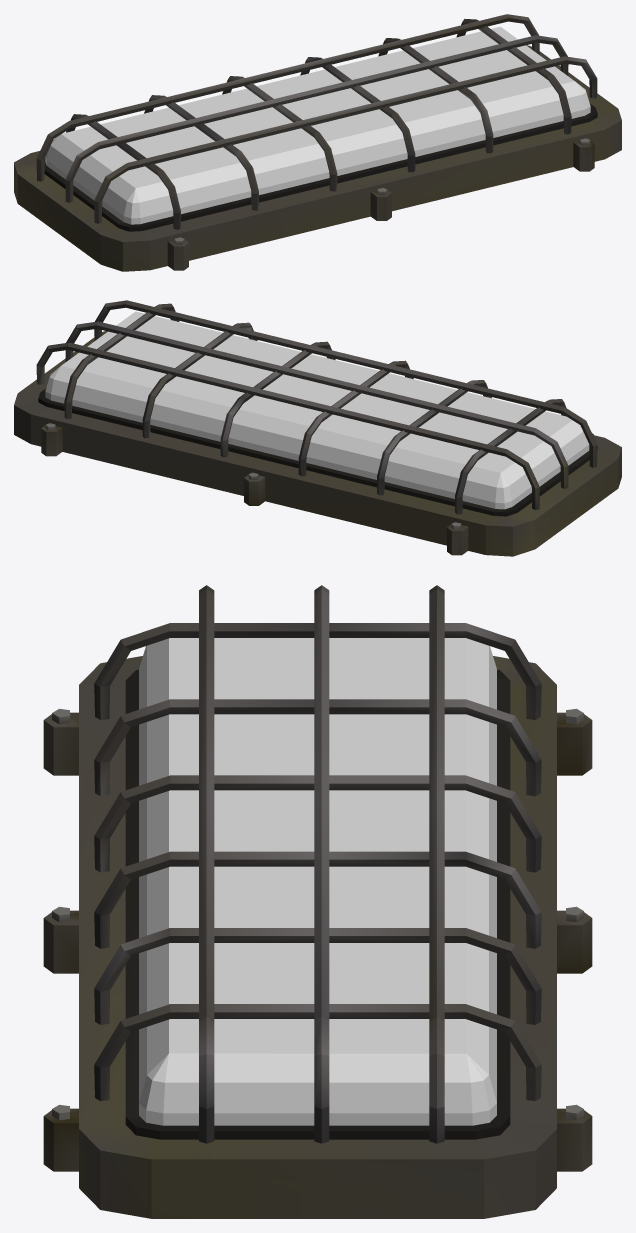
Rendered from ceilingLamp.glb.
3 renders of one model, top to bottom at view 1: azimuth 30°, elevation 25°; view 2: azimuth 150°, elevation 25°; view 3: azimuth 270°, elevation 25°, orthographic. The views are drawn at different scales.
Visible parts, largest first — view 1: cage; view 2: cage; view 3: cage.
Part boxes in pixels (bbox=[...]): cage: bbox=[14, 14, 621, 271]; cage: bbox=[14, 300, 621, 556]; cage: bbox=[43, 585, 592, 1218].
Bounding box in the file's own units: 300 × 45.3 × 138.
